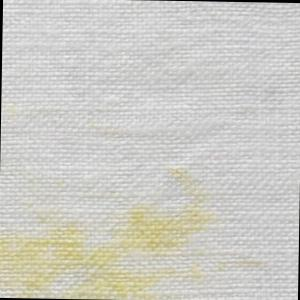Stain: (1, 159, 223, 300)
